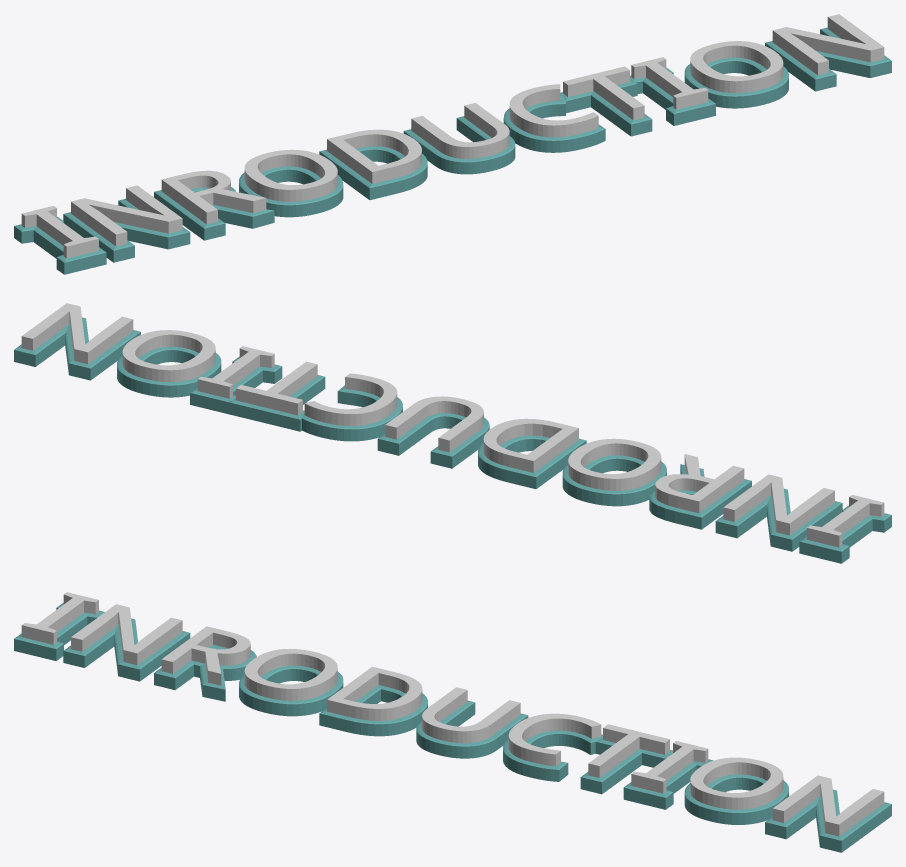
The model's file is SIDE1-title-straight.glb.
3 renders of one model, top to bottom at view 1: azimuth 30°, elevation 25°; view 2: azimuth 150°, elevation 25°; view 3: azimuth 330°, elevation 25°, orthographic.
Visible parts, largest first — view 1: Mesh_Mesh_head_geo.001_lambert2SG.001; view 2: Mesh_Mesh_head_geo.001_lambert2SG.001; view 3: Mesh_Mesh_head_geo.001_lambert2SG.001.
Part boxes in pixels (x1,y1,x2,y2): Mesh_Mesh_head_geo.001_lambert2SG.001: [14, 14, 891, 274]; Mesh_Mesh_head_geo.001_lambert2SG.001: [14, 303, 891, 563]; Mesh_Mesh_head_geo.001_lambert2SG.001: [14, 592, 891, 852].
Bounding box in the file's own units: 75.7 × 2.29 × 8.18.
